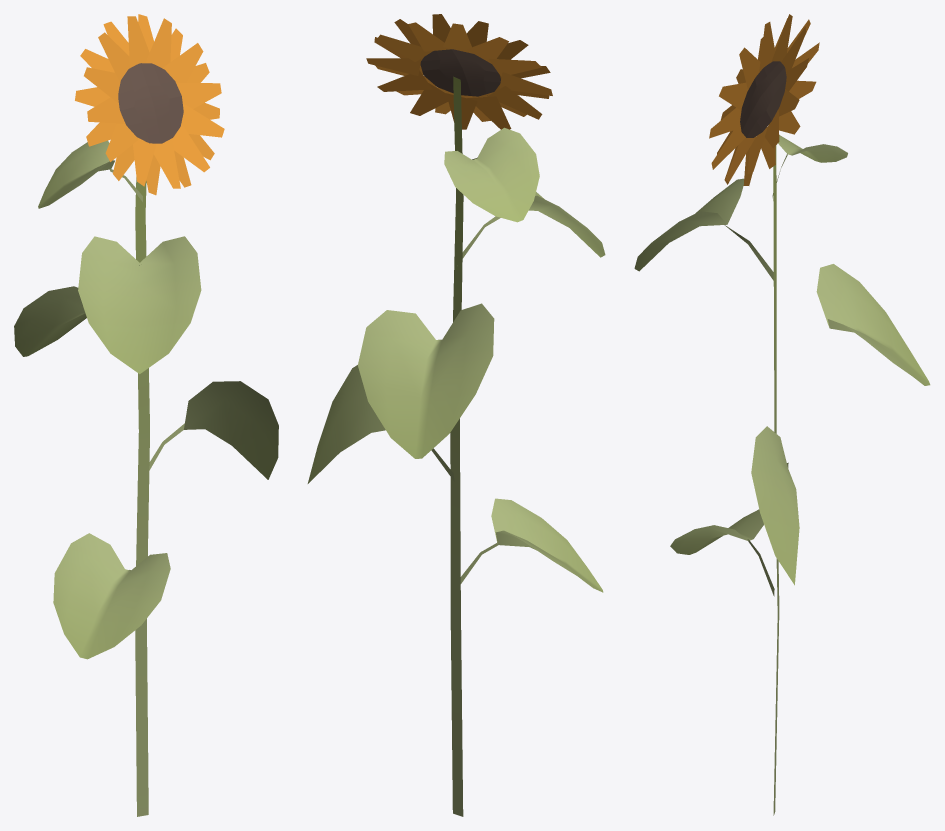
Rendered from TheSunflovrLowFront.fbx.
3 views of the same model, side by side, from view 1: azimuth 30°, elevation 25°; view 2: azimuth 150°, elevation 25°; view 3: azimuth 270°, elevation 25° (orthographic). The views are drawn at different scales.
Parts seen in each view (by area): view 1: SunfloverLowFront_group4_pCube1, SunfloverLowFront_group2_group1_pPlane1; view 2: SunfloverLowFront_group4_pCube1, SunfloverLowFront_group2_group1_pPlane1; view 3: SunfloverLowFront_group4_pCube1, SunfloverLowFront_group2_group1_pPlane1.
Boxes of the visible parts, box(x1,y1,x2,y2) form: SunfloverLowFront_group4_pCube1: box(14, 140, 278, 816); SunfloverLowFront_group2_group1_pPlane1: box(75, 14, 224, 195); SunfloverLowFront_group4_pCube1: box(307, 76, 605, 816); SunfloverLowFront_group2_group1_pPlane1: box(366, 14, 552, 129); SunfloverLowFront_group4_pCube1: box(634, 135, 930, 815); SunfloverLowFront_group2_group1_pPlane1: box(709, 14, 819, 185).
Size of the model in its own units: 0.8009 by 2.51 by 0.8531.
